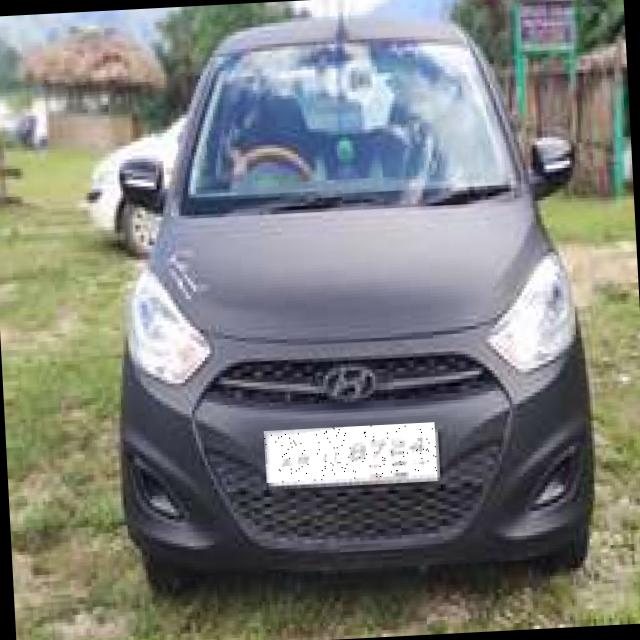Plate: (265, 423, 439, 484)
